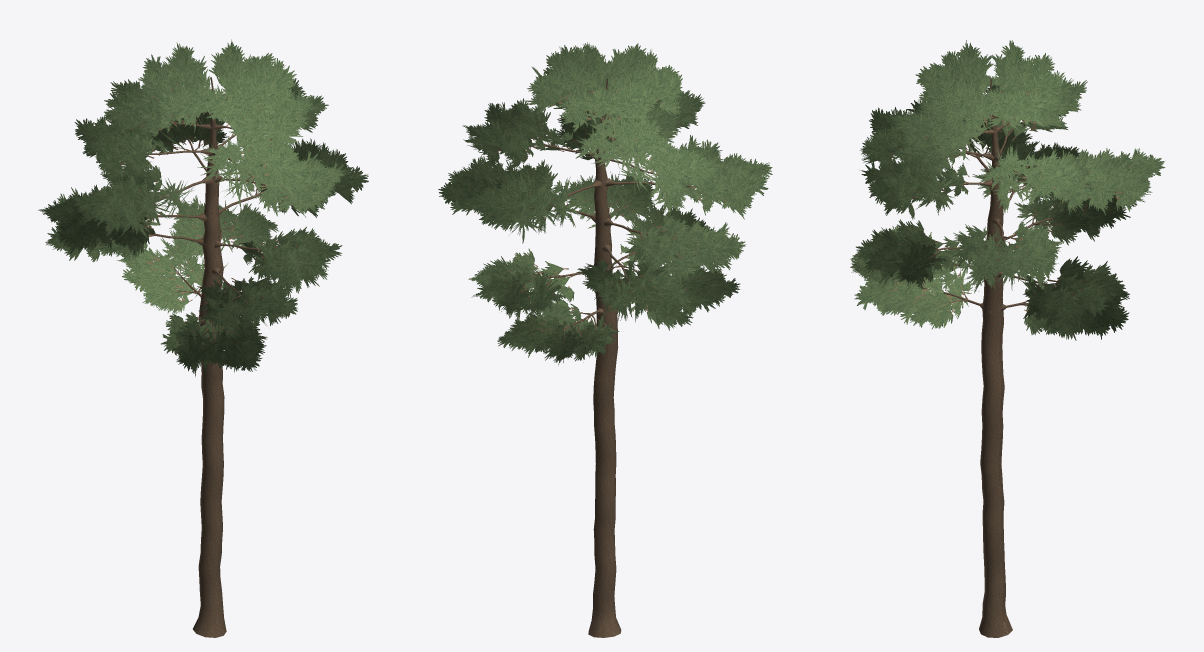
The model's file is Scenery_Pine_V3.fbx.
3 views of the same model, side by side, from view 1: azimuth 30°, elevation 25°; view 2: azimuth 150°, elevation 25°; view 3: azimuth 270°, elevation 25° (orthographic).
Parts seen in each view (by area): view 1: Scenery_Pine_V3_LOD0; view 2: Scenery_Pine_V3_LOD0; view 3: Scenery_Pine_V3_LOD0.
Part boxes in pixels (left/top/right/bottom): Scenery_Pine_V3_LOD0: left=38, top=39, right=368, bottom=637; Scenery_Pine_V3_LOD0: left=438, top=42, right=772, bottom=637; Scenery_Pine_V3_LOD0: left=850, top=40, right=1165, bottom=637.
Size of what is drawn, in the model's own units: 10.9 by 18.45 by 10.22.
